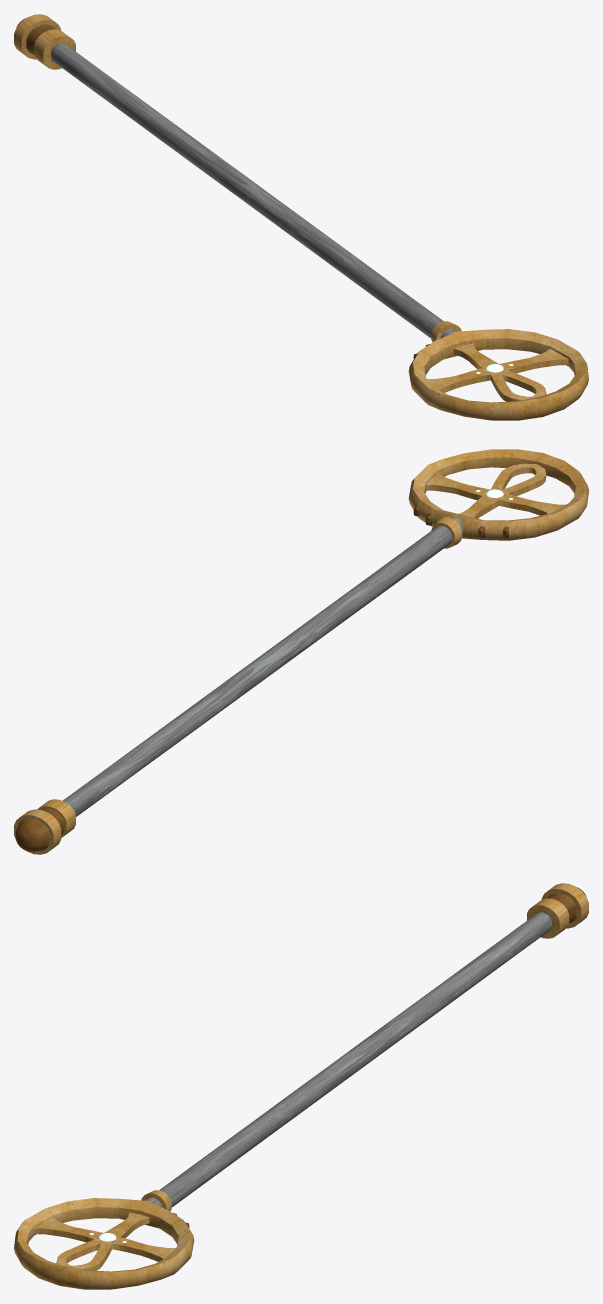
The model's file is the_sacred_ameno_staff.glb.
3 views of the same model, one above another, from view 1: azimuth 30°, elevation 25°; view 2: azimuth 150°, elevation 25°; view 3: azimuth 330°, elevation 25° (orthographic).
Visible parts, largest first — view 1: Ameno; view 2: Ameno; view 3: Ameno.
Boxes of the visible parts, x1=… form: Ameno: x1=14, y1=14, x2=588, y2=420; Ameno: x1=14, y1=449, x2=588, y2=854; Ameno: x1=14, y1=883, x2=588, y2=1289.
Size of the model in its own units: 0.3107 by 0.0728 by 1.78.
Materials: 1 (1 with a texture image).
